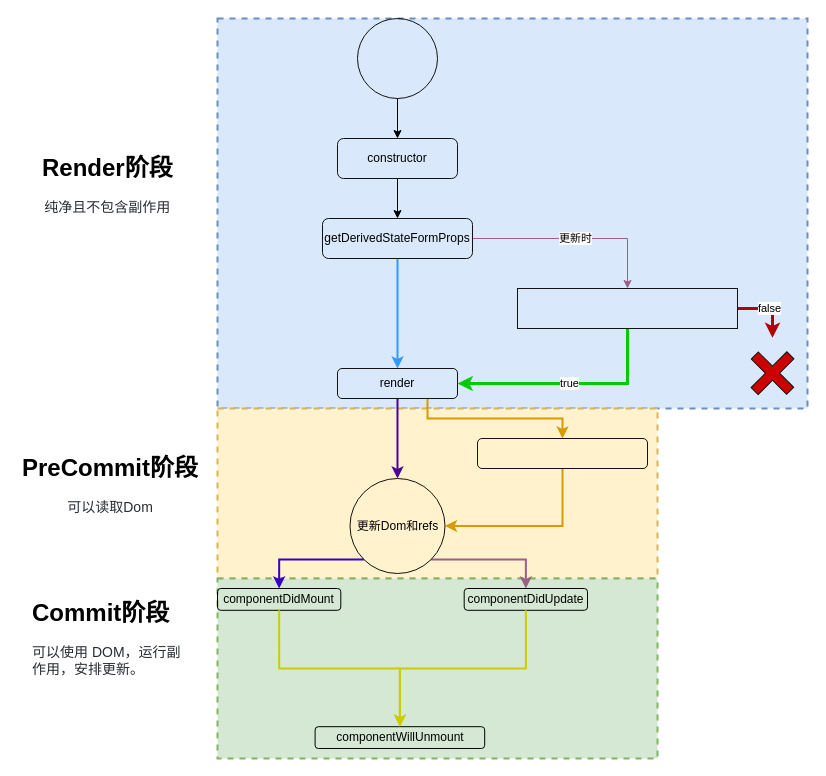
This 826x776 diagram has some shape labels left out. Each missing label, with the box of its shape:
getSnapshotBeforeUpdate(): (476, 438, 648, 468)
shouldComponentUpdate(newProps, newState): (516, 288, 738, 328)
挂载之前: (356, 18, 438, 98)
